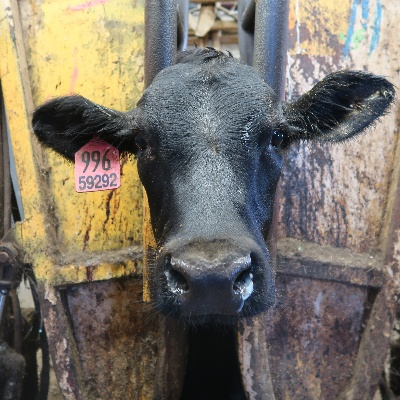fidget_spinner: (158, 246, 261, 318)
